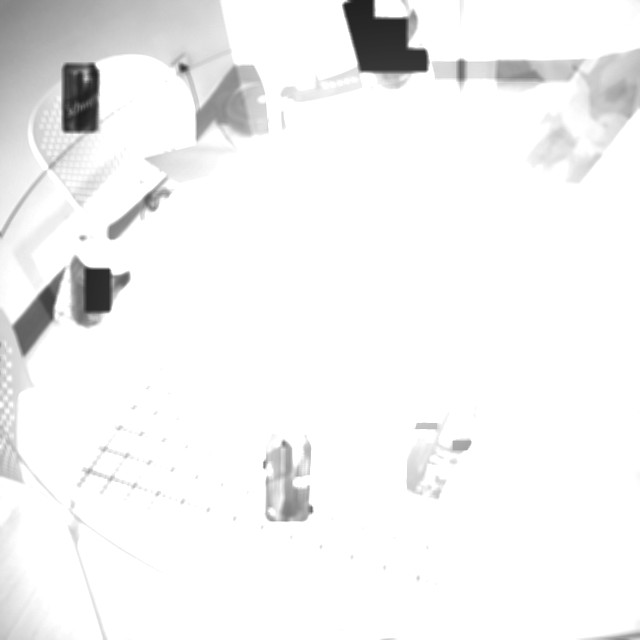coca cola: (405, 384, 479, 504)
schweppes: (54, 236, 137, 336), (260, 428, 314, 523), (63, 64, 100, 132)
sprite: (343, 0, 433, 100)
